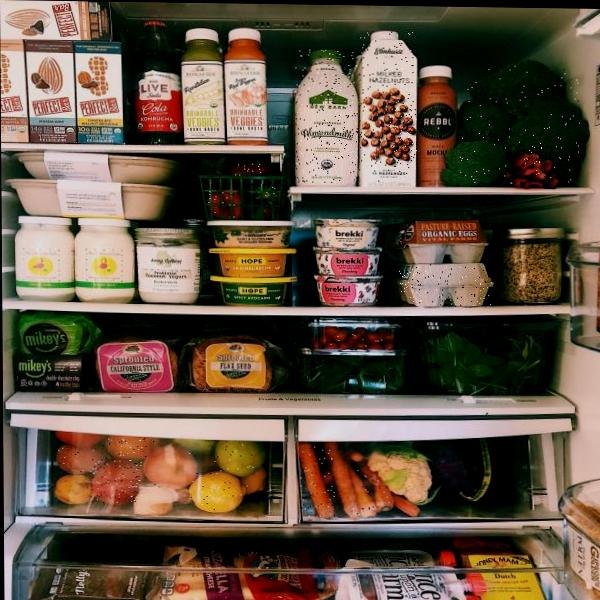apple: (146, 445, 199, 488), (91, 459, 142, 503), (214, 442, 265, 474), (58, 444, 107, 474), (108, 436, 159, 459)
broccoli: (459, 65, 580, 185)
carrot: (300, 445, 335, 518), (326, 446, 360, 516), (350, 468, 380, 517), (372, 480, 393, 511)
eggs: (398, 264, 492, 307), (401, 222, 486, 263)
lemon: (190, 473, 248, 512)
milk: (358, 31, 417, 185), (295, 49, 358, 184)
strawberries: (206, 190, 239, 218), (225, 161, 269, 177), (252, 183, 280, 202)
tomato: (324, 328, 338, 338), (367, 333, 382, 342), (334, 333, 348, 342), (348, 335, 363, 343), (383, 333, 394, 342), (324, 342, 337, 349), (355, 343, 367, 350), (340, 343, 352, 350)
